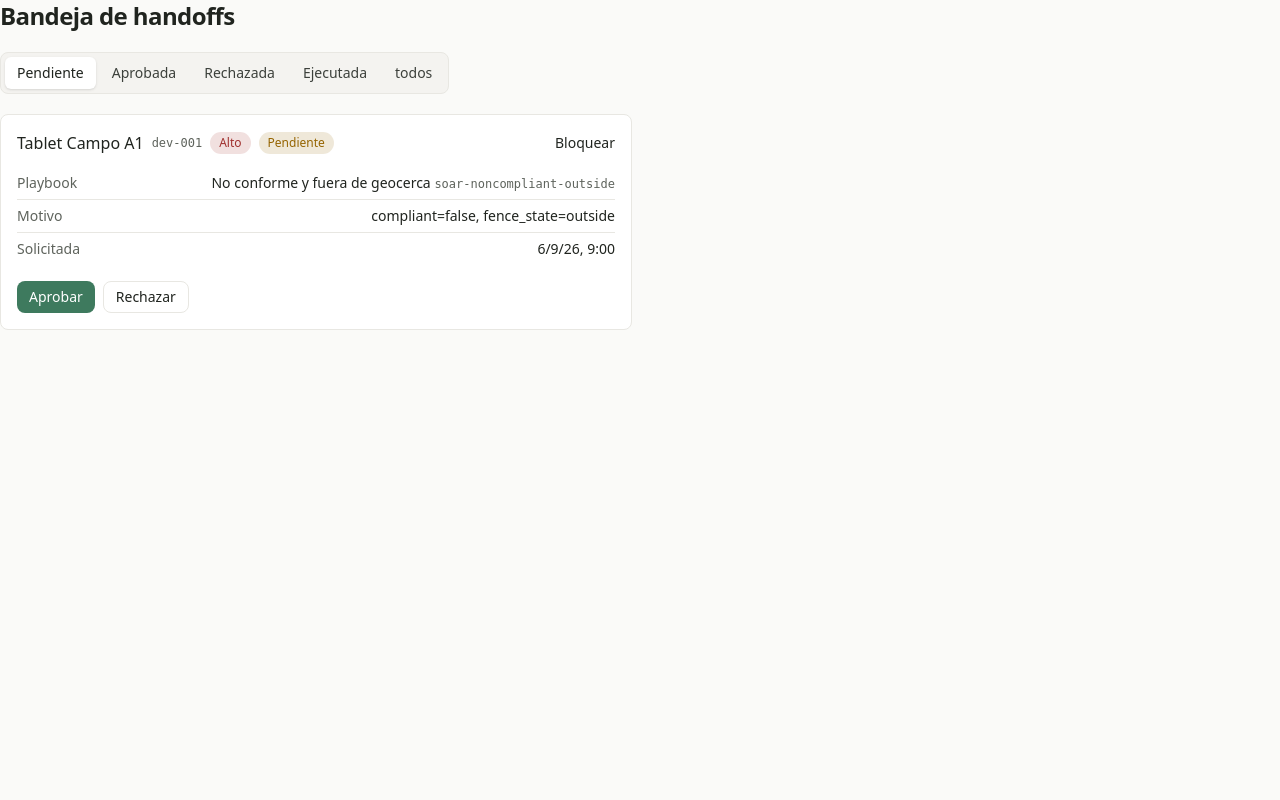
un 409 dice que ya estaba decidido y refresca la bandeja
The image size is (1280, 800).
Click the button "Aprobar": (56, 297) 17,281 -> 95,313
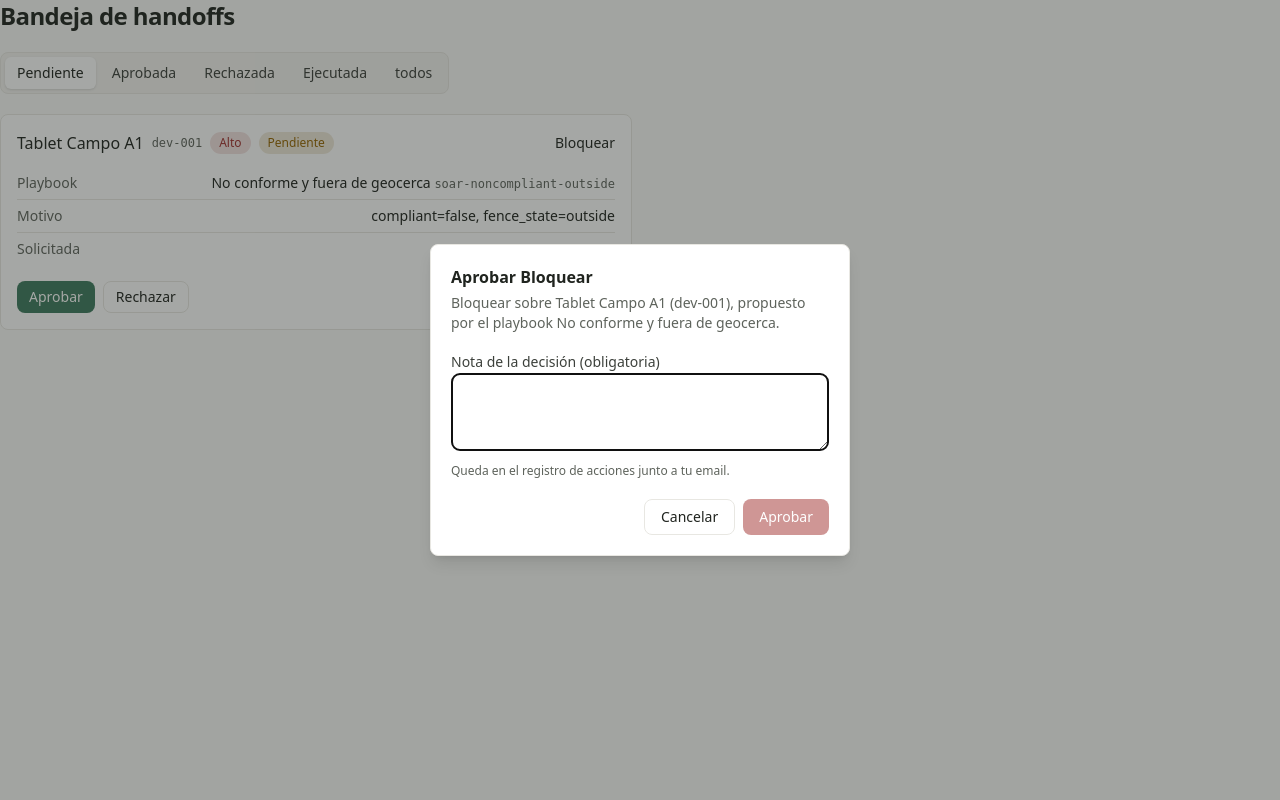
In the text box labelled "Nota de la decisión (obligatoria)": (640, 412) 451,373 -> 829,451, type "yo primero"
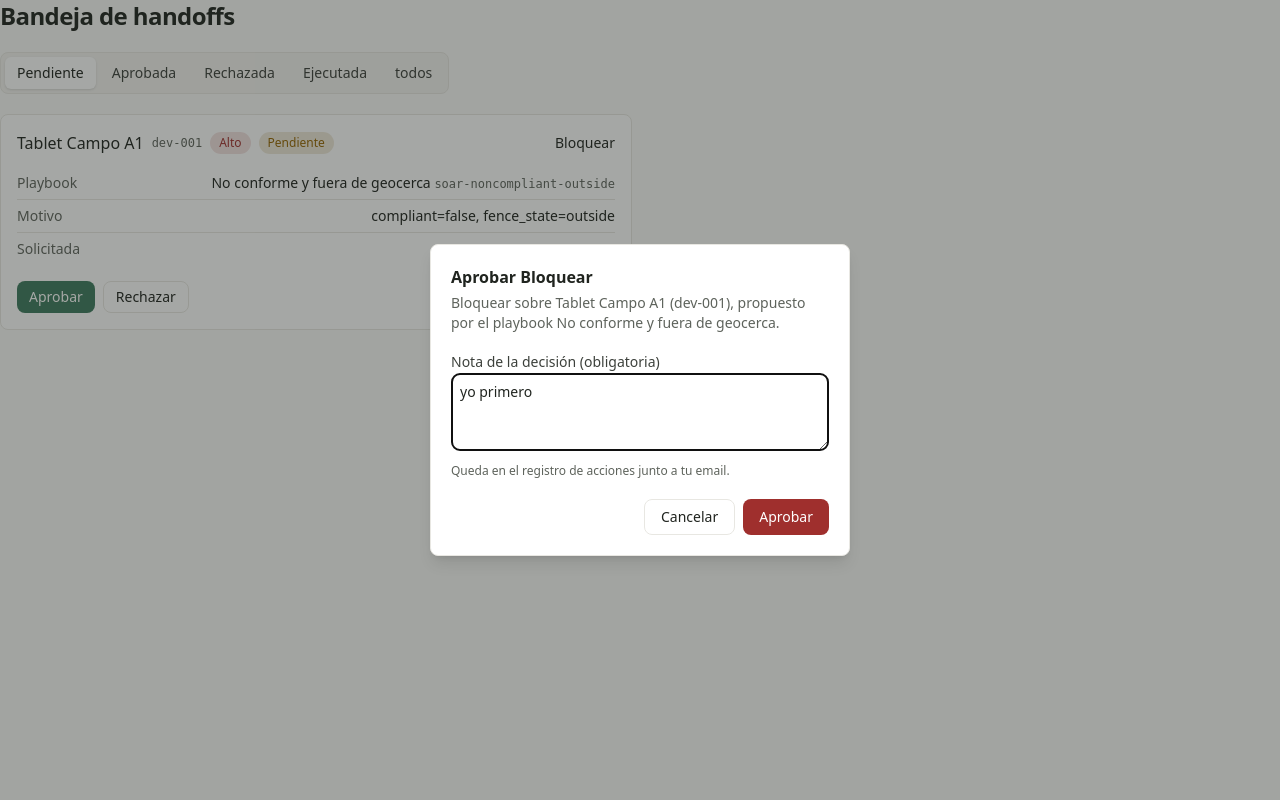
Click the button "Aprobar": (786, 517) 743,499 -> 829,535
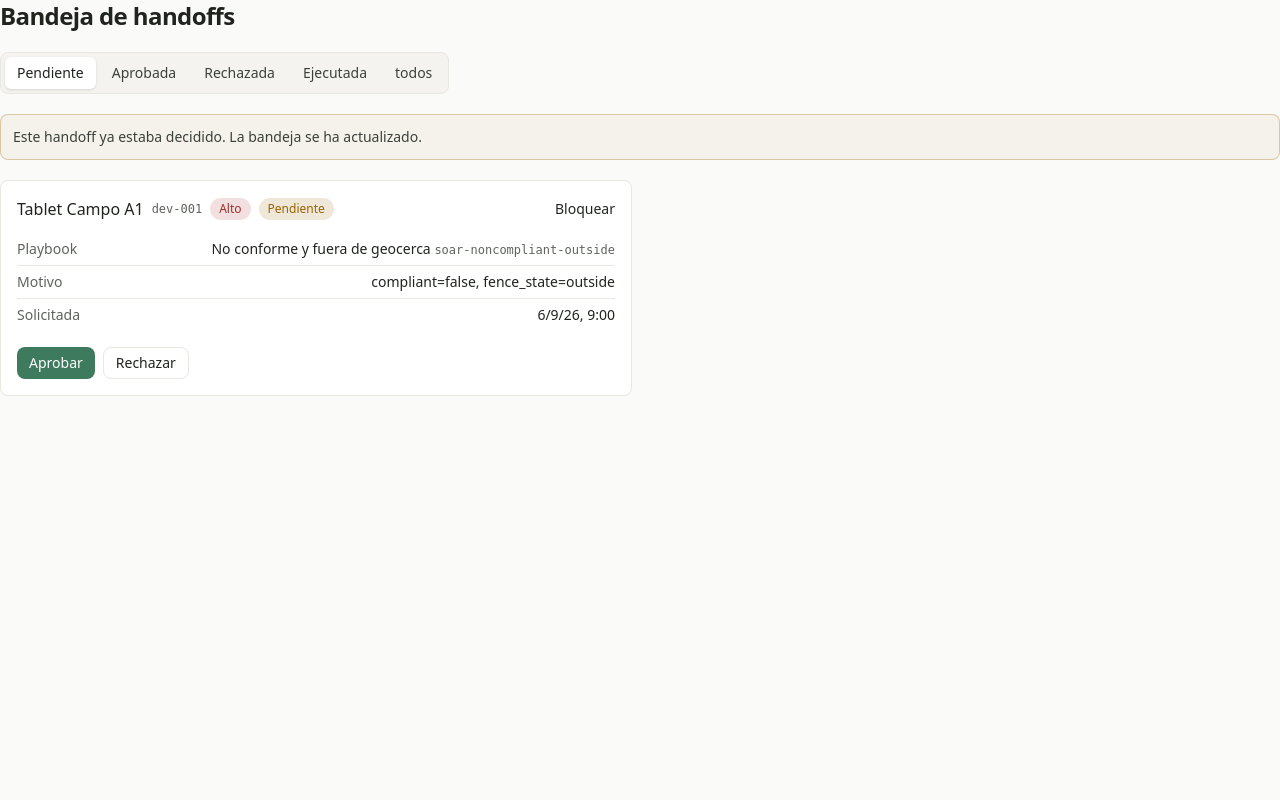
Expected: the text "Este handoff ya estaba decidido. La bandeja se ha actualizado." is shown, 0,114 -> 1279,160
